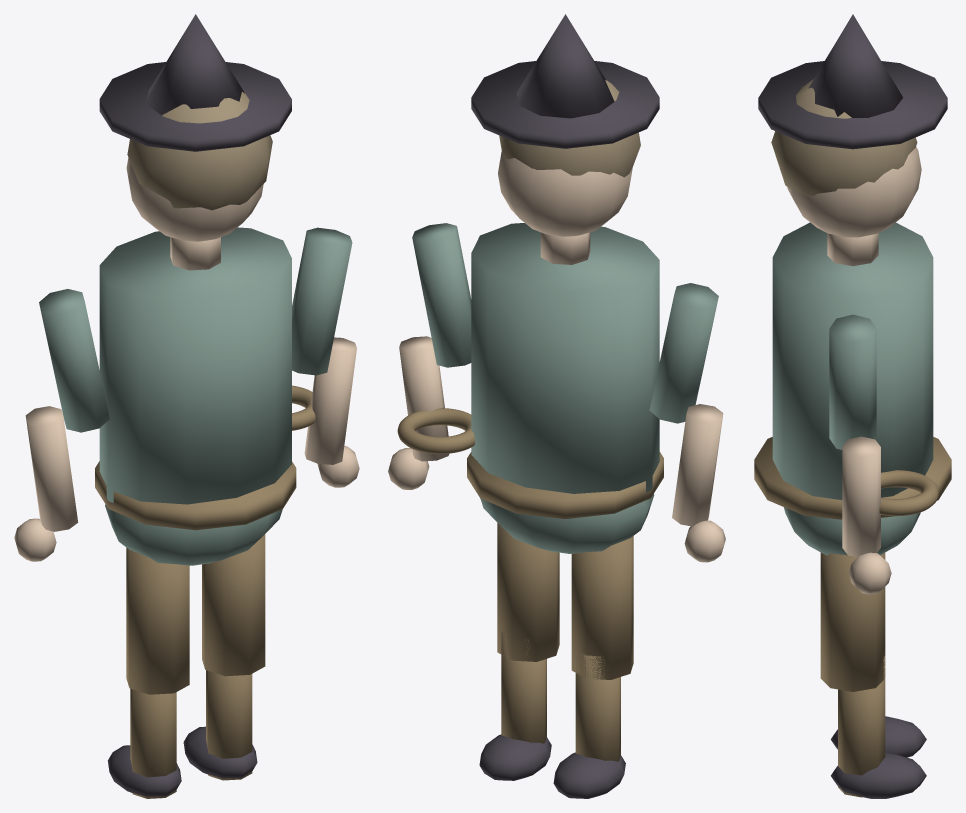
File: brin.glb
3 renders of one model, left to right at view 1: azimuth 30°, elevation 25°; view 2: azimuth 150°, elevation 25°; view 3: azimuth 270°, elevation 25°, orthographic. The views are drawn at different scales.
Visible parts, largest first — view 1: Brin; view 2: Brin; view 3: Brin.
Part boxes in pixels (x1,y1,x2,y2): Brin: (14, 14, 359, 798); Brin: (388, 14, 725, 798); Brin: (754, 14, 951, 798).
Bounding box in the file's own units: 0.9 × 1.96 × 0.46.
